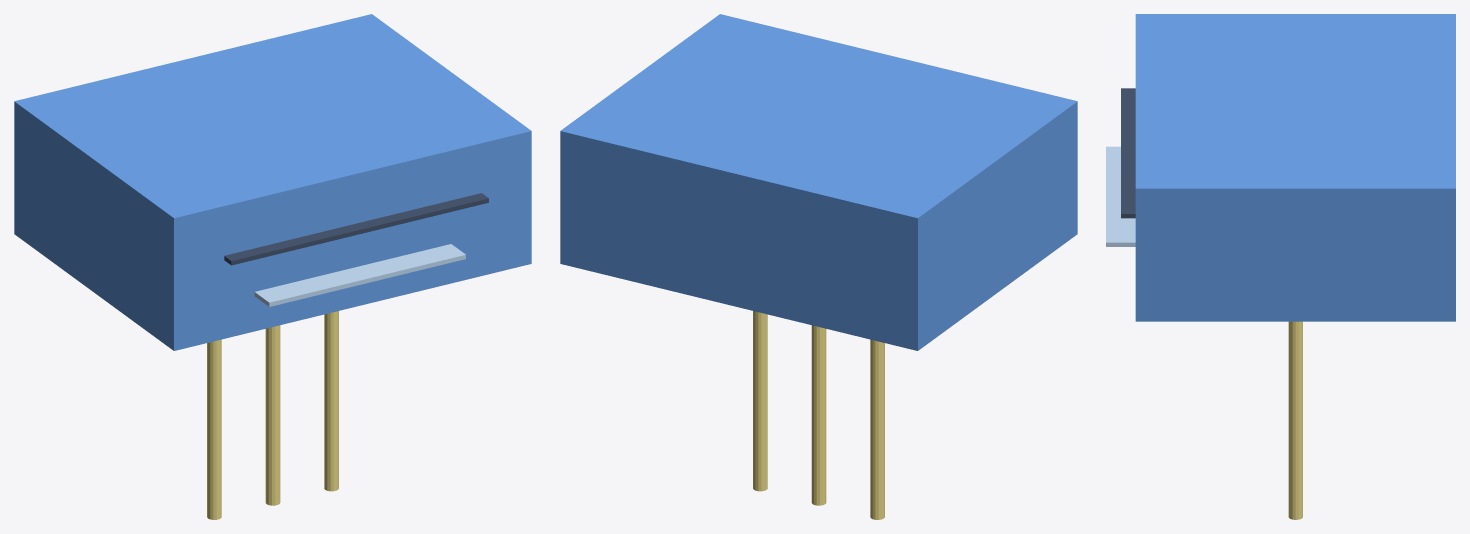
The model's file is dht11-temperature-humidity.glb.
3 views of the same model, side by side, from view 1: azimuth 30°, elevation 25°; view 2: azimuth 150°, elevation 25°; view 3: azimuth 270°, elevation 25° (orthographic).
Visible parts, largest first — view 1: dht11-temperature-humidity_mesh; view 2: dht11-temperature-humidity_mesh; view 3: dht11-temperature-humidity_mesh.
Part boxes in pixels (x1,y1,x2,y2): dht11-temperature-humidity_mesh: [14, 14, 531, 519]; dht11-temperature-humidity_mesh: [560, 14, 1077, 519]; dht11-temperature-humidity_mesh: [1106, 14, 1455, 519].
Size of the model in its own units: 15.5 by 16 by 13.11.
